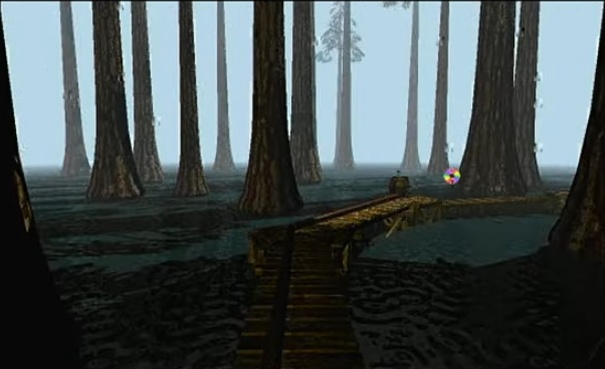Waiting: (440, 163, 464, 185)
